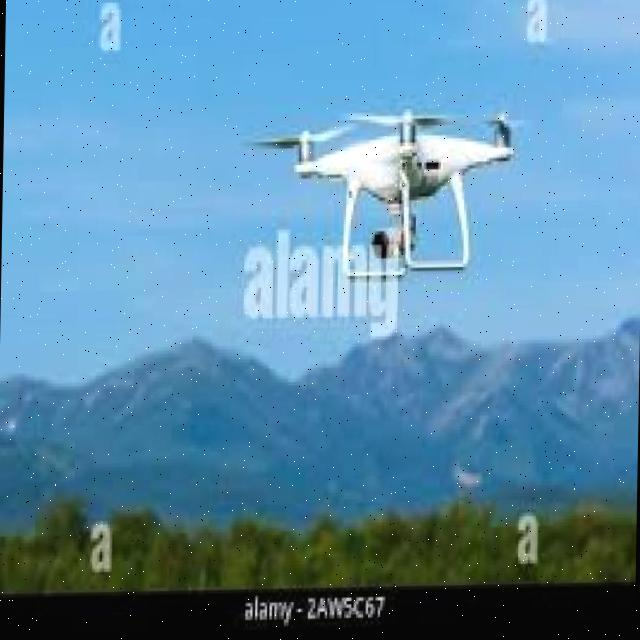drone: (249, 81, 530, 315)
